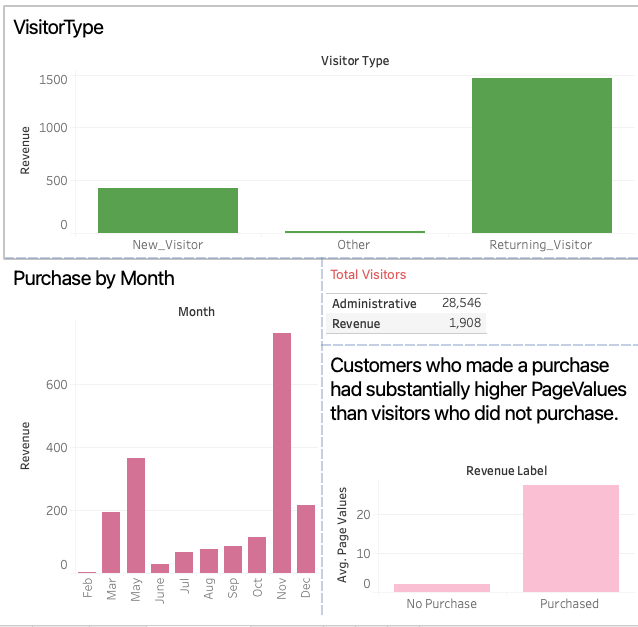

This screenshot's page, from the dashboard's own definition file:
{"tool":"tableau","page":{"name":"Dashboard 1","canvas":[650,860],"ordinal":0},"visuals":[{"type":"worksheet","title":"Sheet 2","mark":"Automatic","rows":["Revenue"],"cols":["VisitorType"],"box":[8,11,634,344.8]},{"type":"worksheet","title":"Sheet 3","mark":"Automatic","rows":["Revenue"],"cols":["Month"],"box":[8,355.8,317,493.2]},{"type":"worksheet","title":"Sheet 1","mark":"Automatic","box":[325,355.8,317,119.5]},{"type":"worksheet","title":"Sheet 4","mark":"Automatic","rows":["PageValues"],"cols":["Revenue_Label"],"box":[325,475.3,317,373.7]}]}

Visuals, with their boxes on the page's 650x860 design canvas (x1, y1, x2, y2). These are canvas units, not pixel positions in the 638x627 screenshot, which may show the page scaled, cropped or inside an application window:
"Sheet 2" worksheet: x1=8, y1=11, x2=642, y2=356
"Sheet 3" worksheet: x1=8, y1=356, x2=325, y2=849
"Sheet 1" worksheet: x1=325, y1=356, x2=642, y2=475
"Sheet 4" worksheet: x1=325, y1=475, x2=642, y2=849
